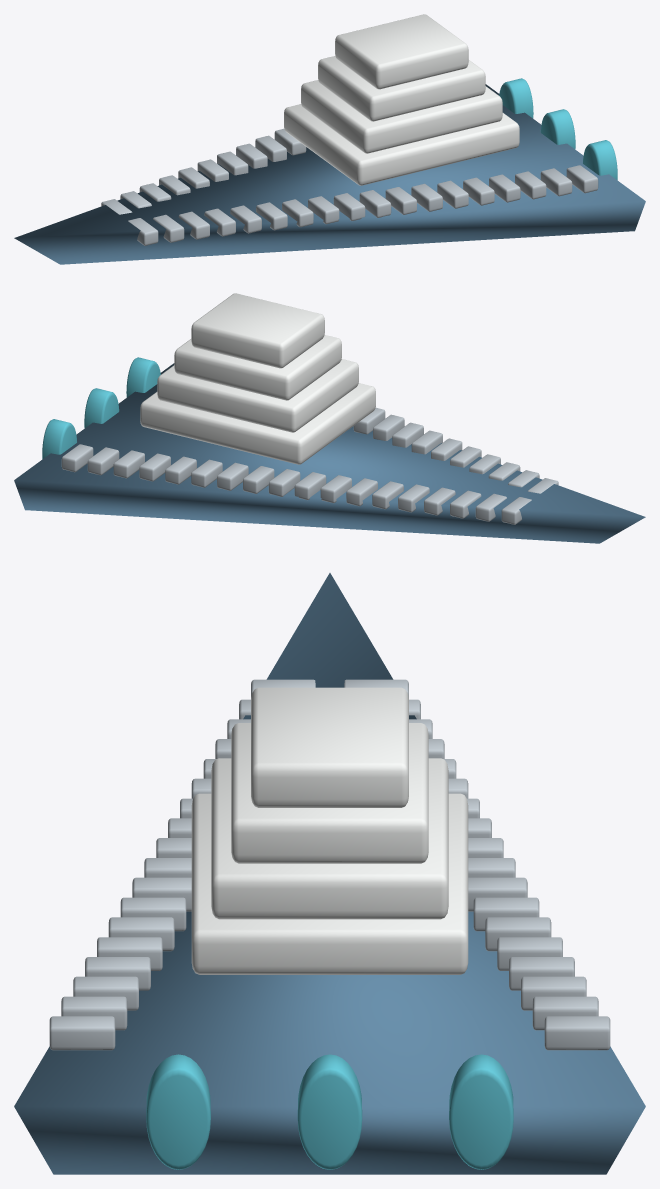
File: brick-space-cruiser.glb
3 views of the same model, one above another, from view 1: azimuth 30°, elevation 25°; view 2: azimuth 150°, elevation 25°; view 3: azimuth 270°, elevation 25° (orthographic). The views are drawn at different scales.
Parts seen in each view (by area): view 1: brick-space-cruiser; view 2: brick-space-cruiser; view 3: brick-space-cruiser.
Boxes of the visible parts, x1,y1,x2,y2 form: brick-space-cruiser: (14,14,645,264); brick-space-cruiser: (14,293,645,543); brick-space-cruiser: (14,573,645,1174).
Bounding box in the file's own units: 0.4 × 0.12 × 0.22.
